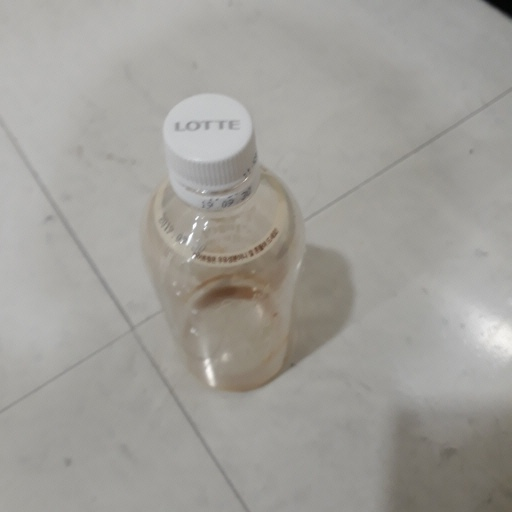Plastic_0: (141, 92, 307, 391)
